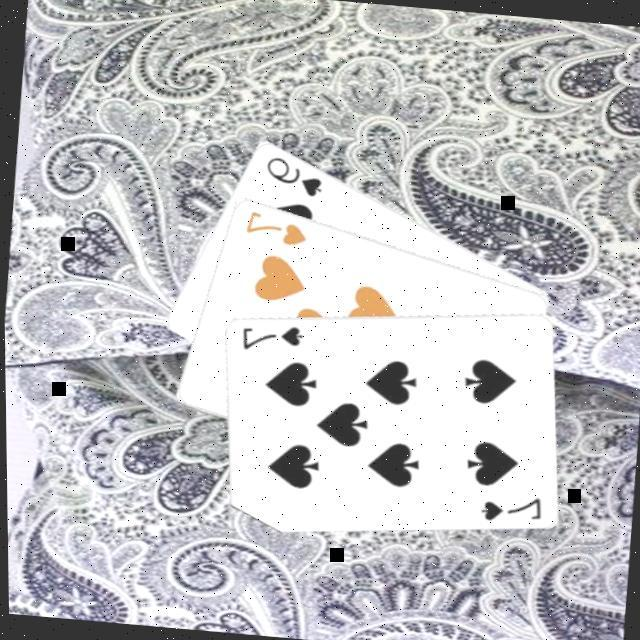7H: (237, 205, 309, 249)
7S: (233, 316, 303, 356), (472, 486, 542, 526)
9S: (256, 150, 326, 199)
